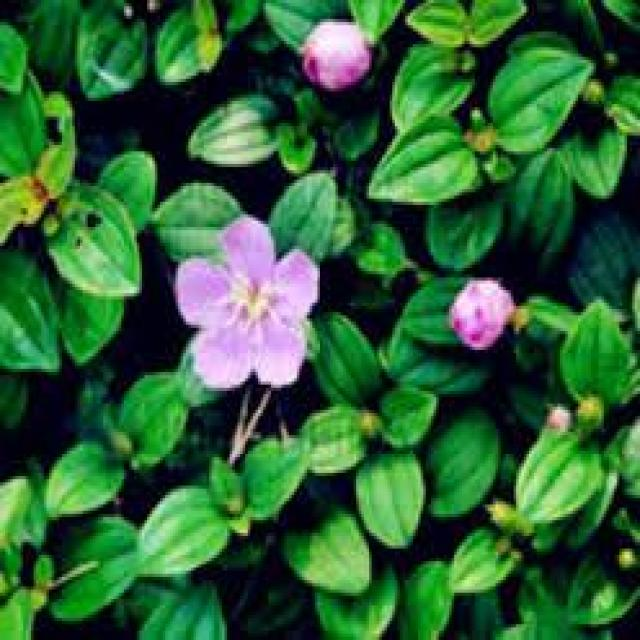organic waste: (165, 200, 318, 399), (444, 273, 519, 370), (300, 22, 376, 104)
